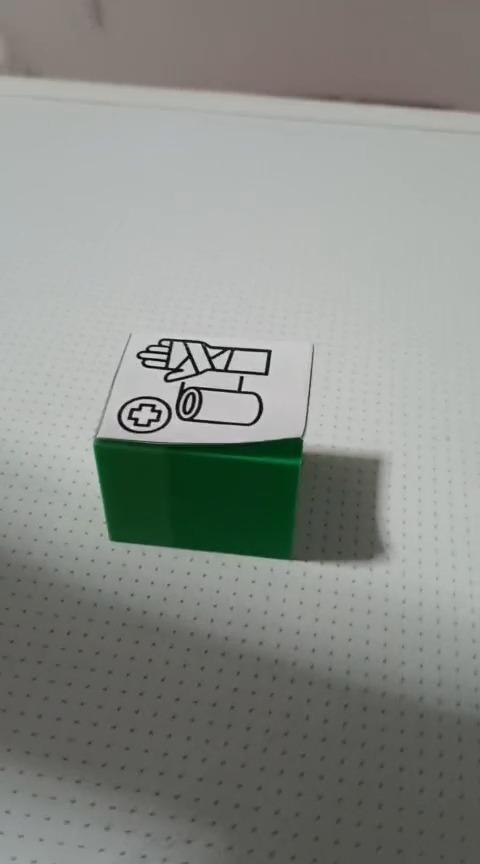Bandages: (92, 332, 314, 559)
